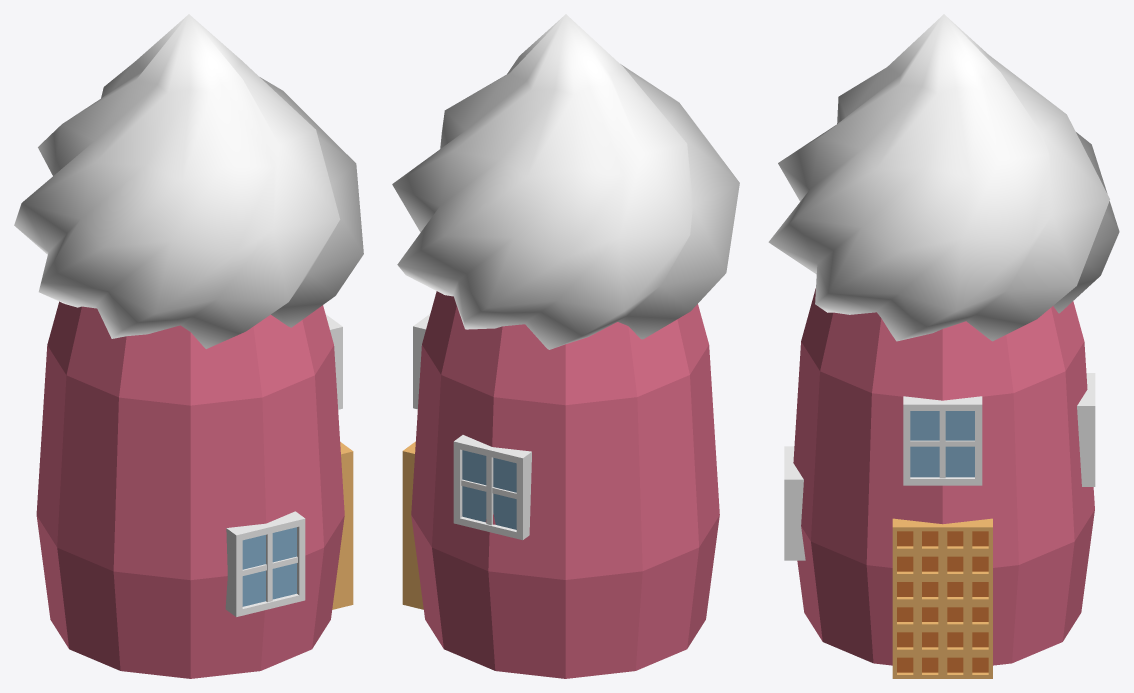
Rendered from CandyHouse_03.fbx.
3 renders of one model, left to right at view 1: azimuth 30°, elevation 25°; view 2: azimuth 150°, elevation 25°; view 3: azimuth 270°, elevation 25°, orthographic.
Visible parts, largest first — view 1: CandyHouse_03; view 2: CandyHouse_03; view 3: CandyHouse_03.
Part boxes in pixels (x1=…): CandyHouse_03: x1=14, y1=14, x2=363, y2=678; CandyHouse_03: x1=392, y1=14, x2=739, y2=678; CandyHouse_03: x1=768, y1=14, x2=1119, y2=678.
Size of the model in its own units: 0.5817 by 1.09 by 0.5817.
